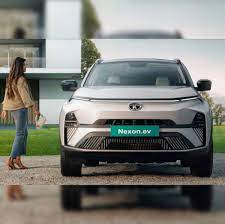Tata Nexon: (55, 50, 216, 183)
